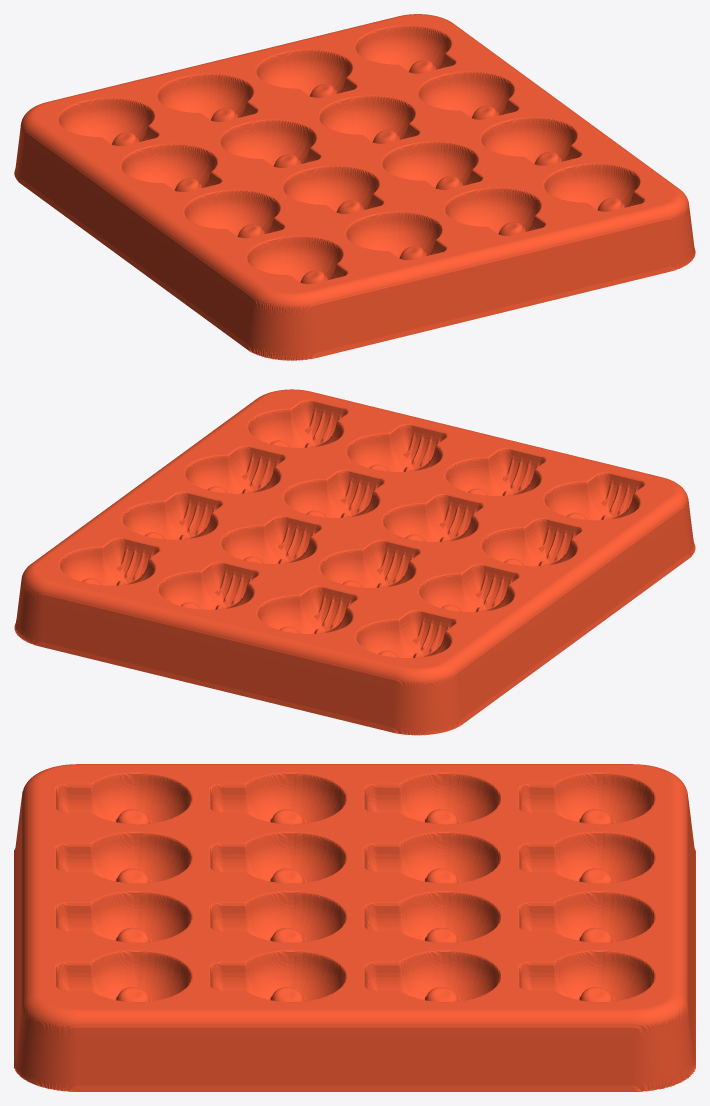
Rendered from mold.glb.
The picture shows the model from 3 angles, top to bottom: view 1: azimuth 30°, elevation 25°; view 2: azimuth 150°, elevation 25°; view 3: azimuth 270°, elevation 25°; orthographic projection. The views are drawn at different scales.
Visible parts, largest first — view 1: geometry_0; view 2: geometry_0; view 3: geometry_0.
Boxes of the visible parts, left/top/right/bottom form: geometry_0: left=14, top=14, right=695, bottom=360; geometry_0: left=14, top=389, right=695, bottom=735; geometry_0: left=14, top=764, right=695, bottom=1091.
Bounding box in the file's own units: 0.0892 × 0.0114 × 0.0972.
